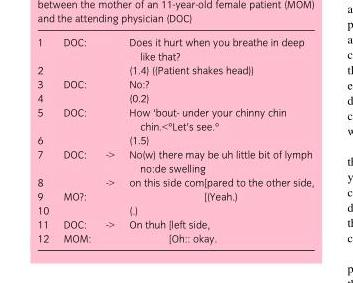table: (36, 37, 313, 243)
table column: (121, 37, 313, 243), (55, 37, 97, 243), (97, 37, 121, 243), (36, 37, 55, 243)
table row: (36, 105, 313, 133), (36, 146, 313, 174), (36, 37, 313, 63), (36, 174, 313, 189), (36, 216, 313, 231), (36, 63, 313, 77), (36, 77, 313, 91), (36, 91, 313, 105), (36, 189, 313, 203), (36, 133, 313, 146), (36, 203, 313, 216), (36, 231, 313, 243)
